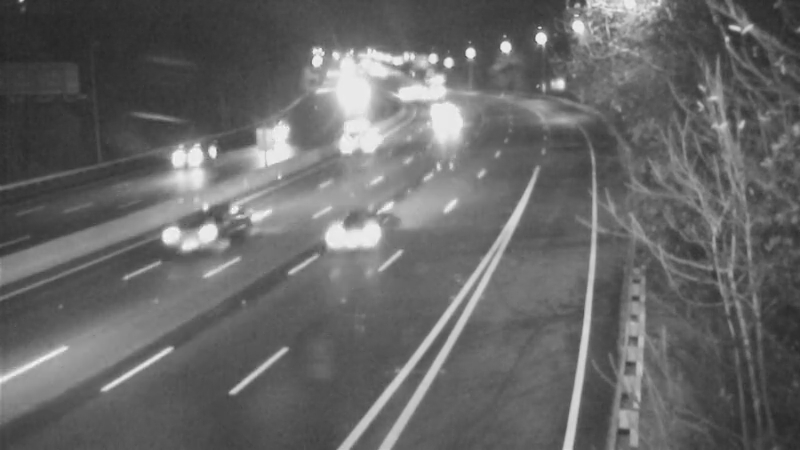vehicle: (304, 195, 384, 275), (148, 196, 228, 276), (154, 117, 234, 197), (416, 72, 466, 122), (377, 67, 427, 117), (411, 82, 461, 132), (427, 97, 477, 147), (337, 110, 387, 160), (243, 110, 293, 160)
